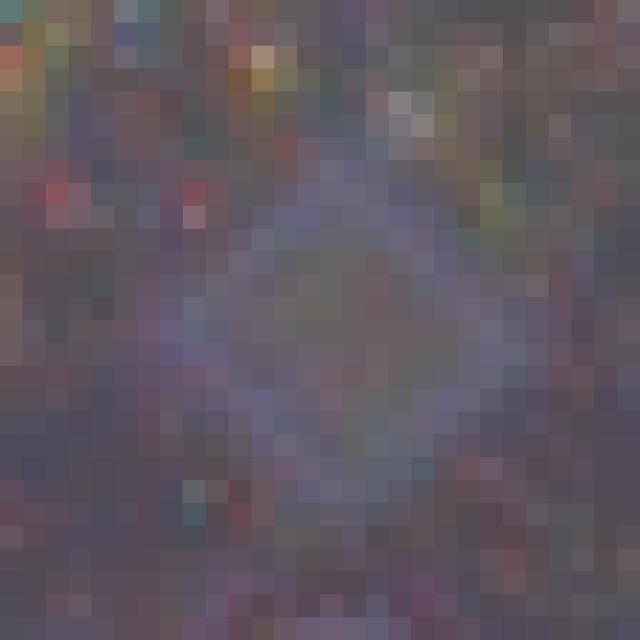Main Road: (138, 138, 527, 527)
